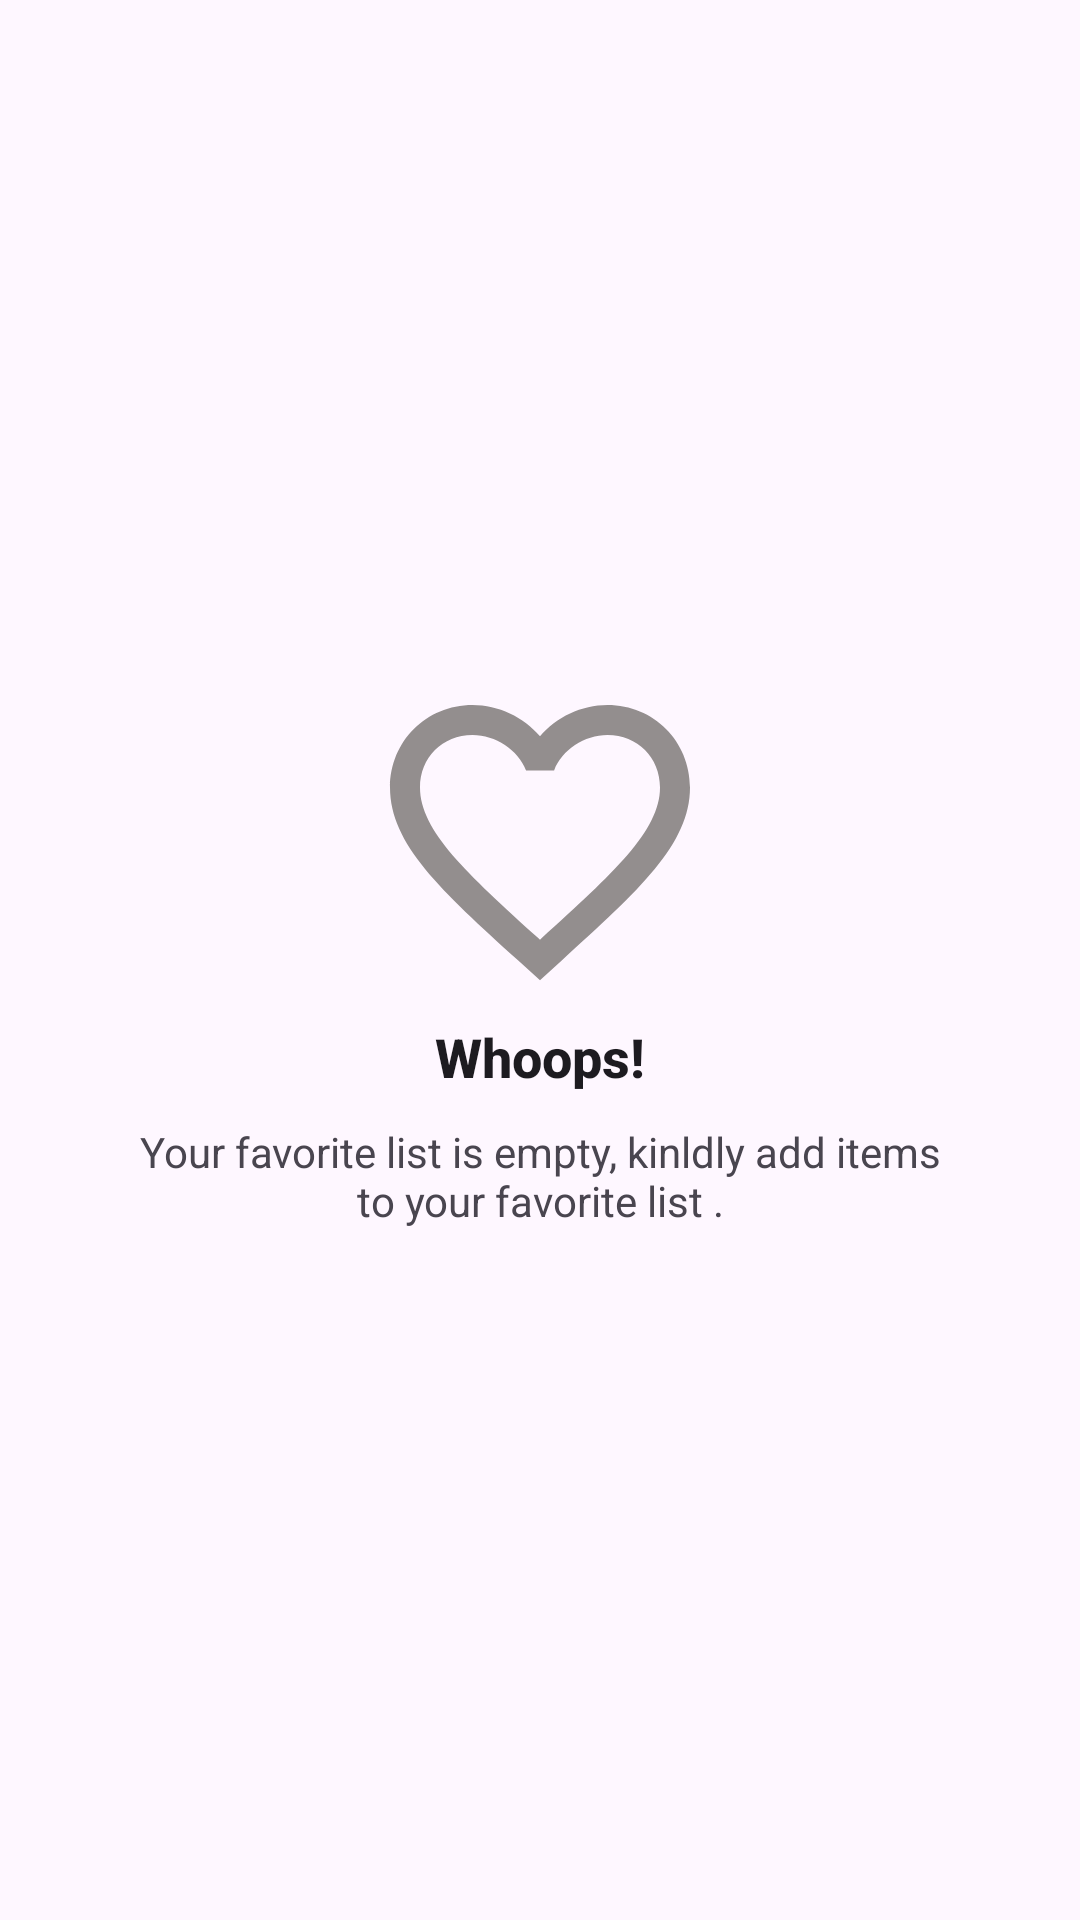

Icons on this 1080 x 1920 Android screen, each with the point to tap as [x,y]:
no favorite: [540,842]
